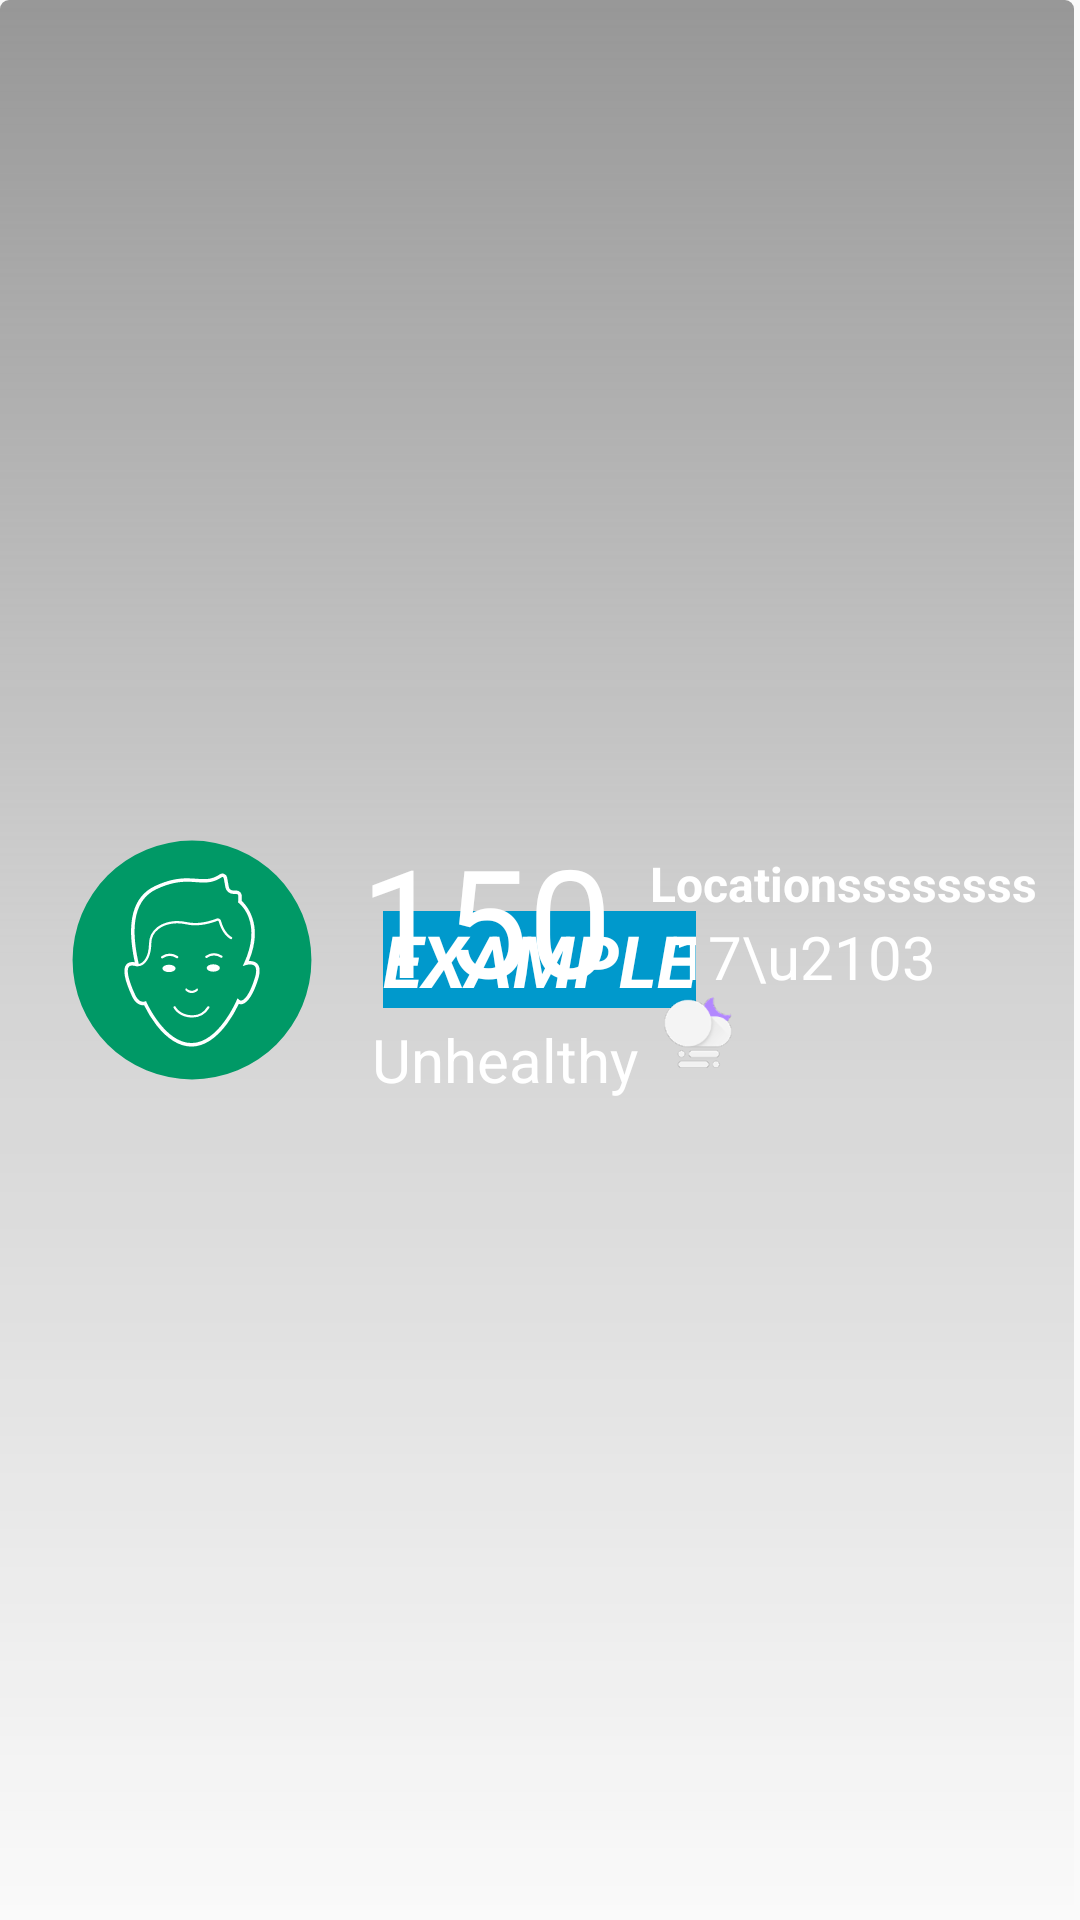

Where to tap for icons on this 1080 × 1920 app screen, as point (x, y):
air good: point (192, 960)
haze night: point (696, 1032)
